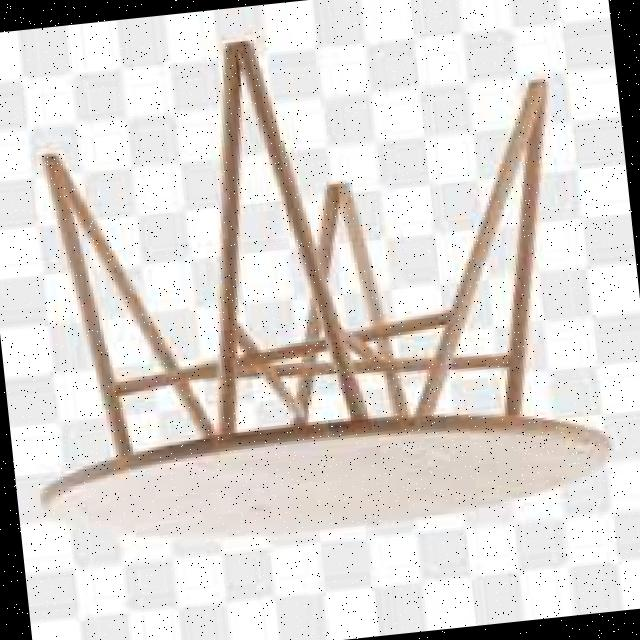Table: (0, 0, 622, 586)
